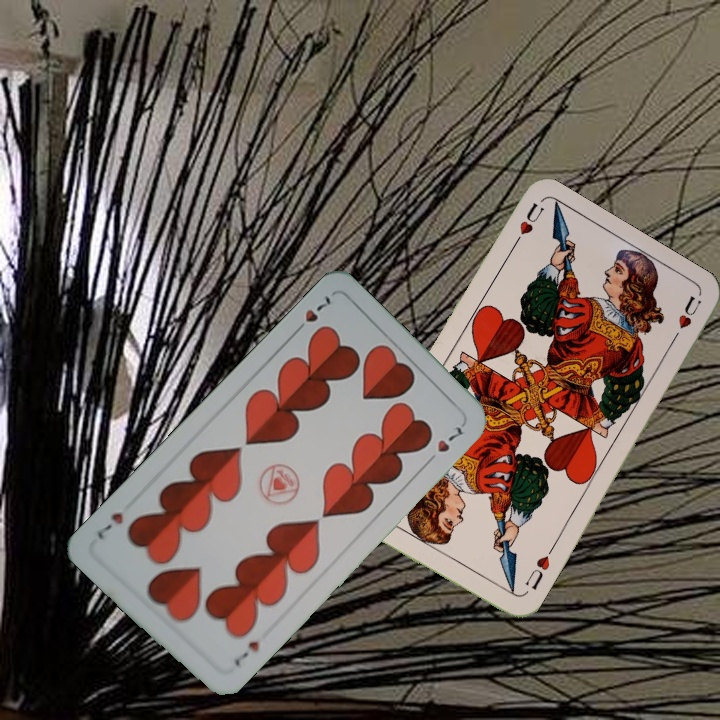H7: (289, 291, 334, 338), (229, 636, 262, 669)
HU: (507, 198, 546, 252), (521, 551, 553, 593)
